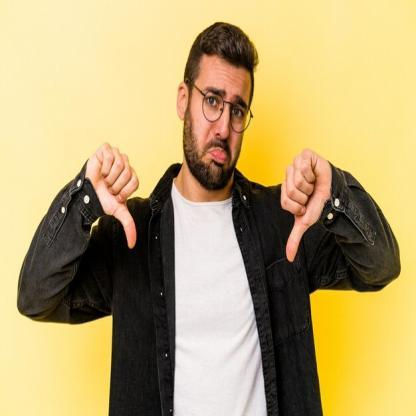thumb_down: (85, 140, 146, 254), (278, 144, 332, 266)
